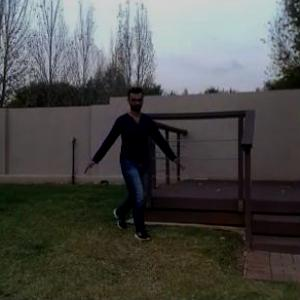land: (80, 80, 183, 257)
